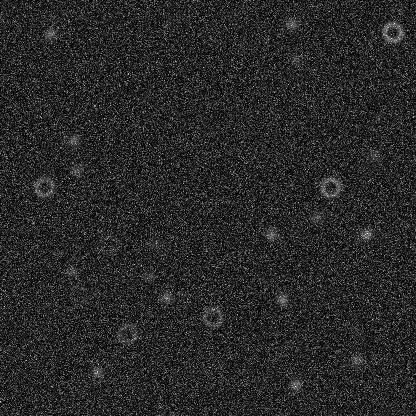Ring: (318, 175, 342, 199), (66, 282, 90, 306), (380, 20, 404, 44), (97, 232, 121, 256), (32, 174, 56, 198), (115, 321, 139, 345), (200, 305, 224, 329)
Spot: (274, 291, 290, 307), (262, 226, 278, 242), (308, 209, 324, 225), (358, 226, 374, 242), (365, 147, 381, 163), (42, 25, 58, 41), (158, 289, 174, 305), (141, 268, 157, 284), (147, 235, 163, 251), (284, 15, 300, 31), (348, 351, 364, 367), (287, 376, 303, 392), (63, 263, 79, 279), (89, 363, 105, 379), (69, 162, 85, 178), (65, 132, 81, 148), (288, 51, 304, 67)
